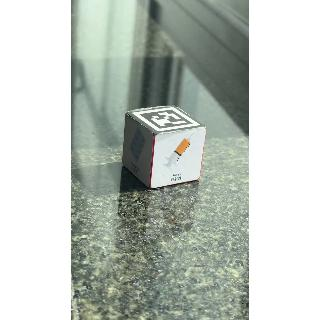Syringe: (156, 130, 206, 186)
